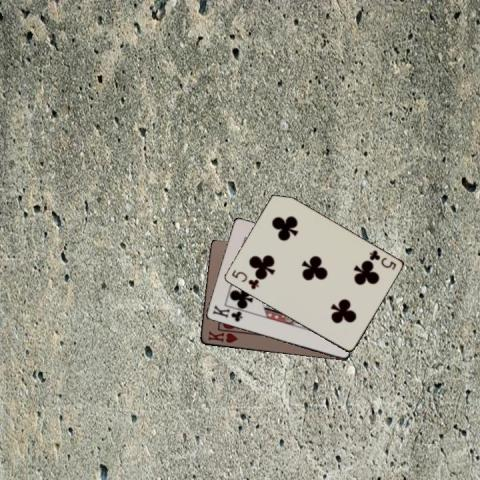5c: (229, 266, 260, 290), (366, 248, 397, 272)
Kc: (209, 303, 244, 323)
Kh: (205, 328, 239, 345)
